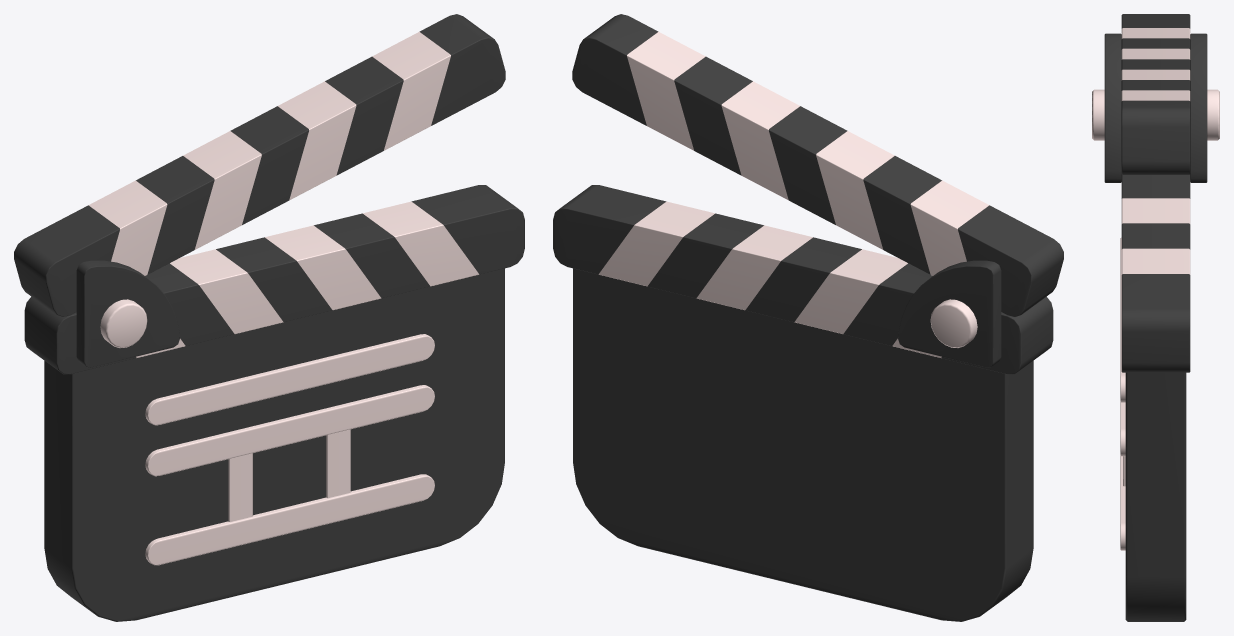
The model's file is Public_4_Clapperboard_1.glb.
3 views of the same model, side by side, from view 1: azimuth 30°, elevation 25°; view 2: azimuth 150°, elevation 25°; view 3: azimuth 270°, elevation 25° (orthographic). The views are drawn at different scales.
Parts seen in each view (by area): view 1: Public_4_Clapperboard_1; view 2: Public_4_Clapperboard_1; view 3: Public_4_Clapperboard_1.
Part boxes in pixels (x1,y1,x2,y2): Public_4_Clapperboard_1: (14,14,524,621); Public_4_Clapperboard_1: (553,14,1063,621); Public_4_Clapperboard_1: (1092,14,1219,621).
Size of the model in its own units: 2.86 by 2.85 by 0.6256.
1 material, 1 textured.
